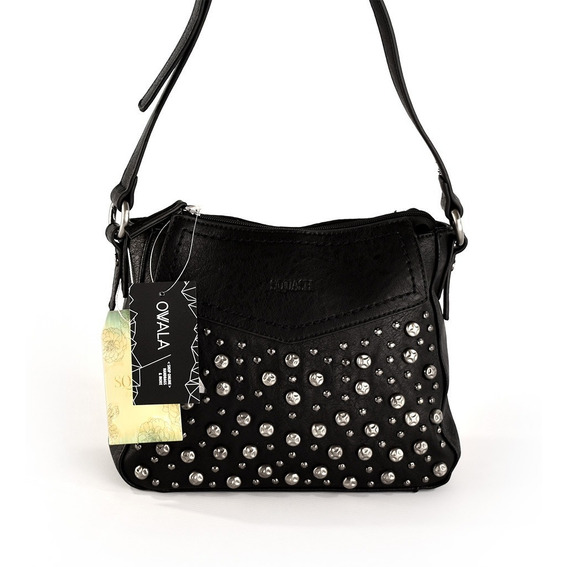cartera: (99, 1, 470, 495)
